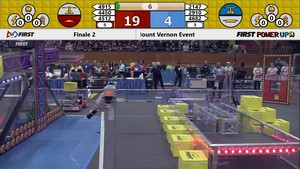cube: (179, 150, 207, 169), (172, 135, 194, 156), (241, 95, 263, 111), (167, 126, 185, 143), (64, 83, 77, 92)
